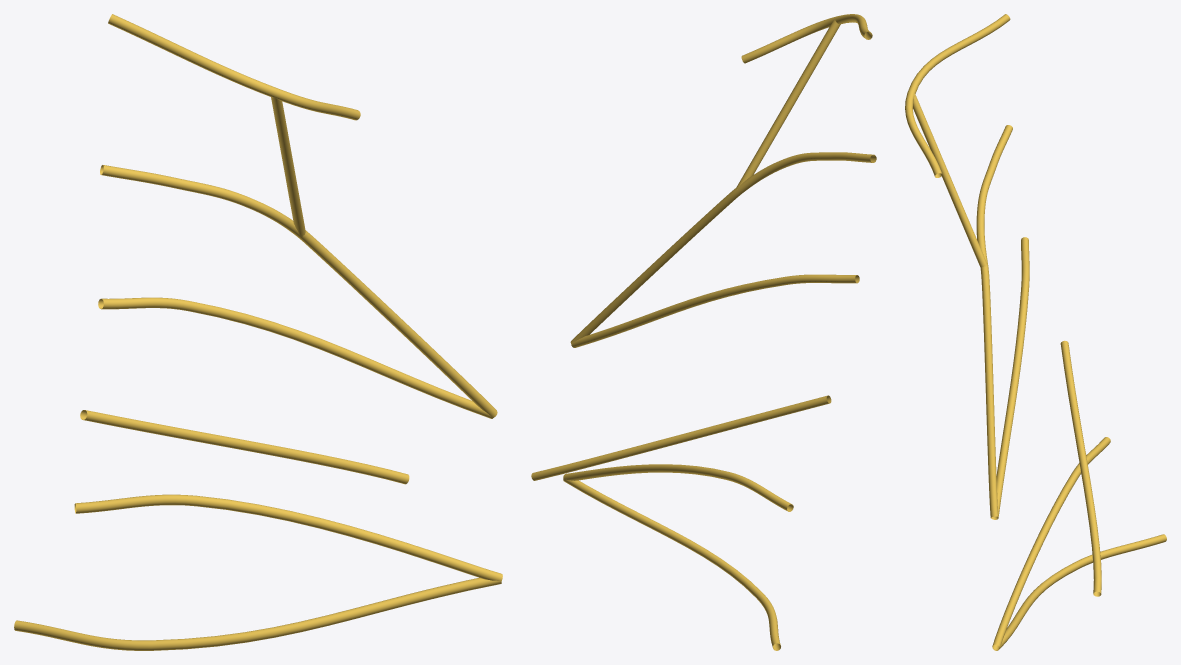
Rendered from Roots_brachial_plexus_left.glb.
3 views of the same model, side by side, from view 1: azimuth 30°, elevation 25°; view 2: azimuth 150°, elevation 25°; view 3: azimuth 270°, elevation 25° (orthographic). The views are drawn at different scales.
Visible parts, largest first — view 1: Roots_of_brachial_plexus.l_BezierCurve.465; view 2: Roots_of_brachial_plexus.l_BezierCurve.465; view 3: Roots_of_brachial_plexus.l_BezierCurve.465.
Part boxes in pixels (x1,y1,x2,y2): Roots_of_brachial_plexus.l_BezierCurve.465: (14, 14, 502, 650); Roots_of_brachial_plexus.l_BezierCurve.465: (531, 14, 876, 650); Roots_of_brachial_plexus.l_BezierCurve.465: (905, 14, 1166, 650).
Size of the model in its own units: 0.0429 by 0.0724 by 0.0328.
